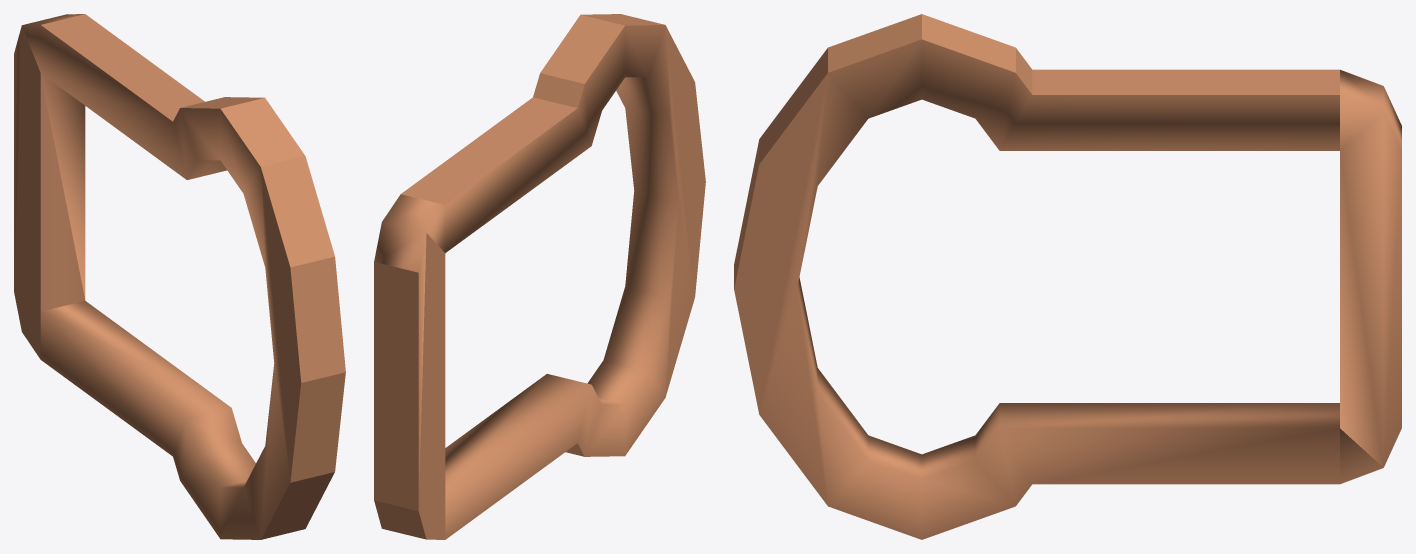
File: slice_crust.obj
3 renders of one model, left to right at view 1: azimuth 30°, elevation 25°; view 2: azimuth 150°, elevation 25°; view 3: azimuth 270°, elevation 25°, orthographic. The views are drawn at different scales.
Parts seen in each view (by area): view 1: bread.000_bread.004; view 2: bread.000_bread.004; view 3: bread.000_bread.004.
Part boxes in pixels (x1=…): bread.000_bread.004: x1=14, y1=14, x2=345, y2=539; bread.000_bread.004: x1=374, y1=14, x2=705, y2=539; bread.000_bread.004: x1=734, y1=14, x2=1401, y2=539.
Bounding box in the file's own units: 0.0149 × 0.1372 × 0.1659.
